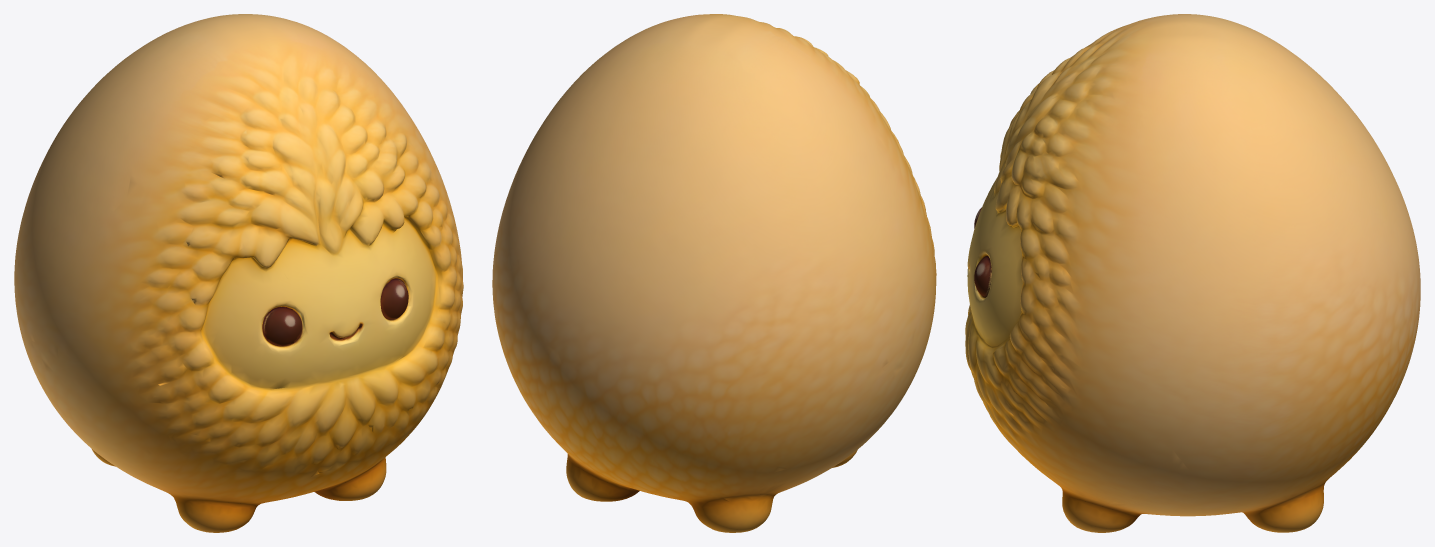
File: tuantuan_egg.glb
3 views of the same model, side by side, from view 1: azimuth 30°, elevation 25°; view 2: azimuth 150°, elevation 25°; view 3: azimuth 270°, elevation 25° (orthographic). The views are drawn at different scales.
Visible parts, largest first — view 1: node_0; view 2: node_0; view 3: node_0.
Boxes of the visible parts, bbox=[...] form: node_0: bbox=[14, 14, 463, 532]; node_0: bbox=[492, 14, 936, 532]; node_0: bbox=[965, 14, 1420, 532].
Size of the model in its own units: 0.9411 by 1.05 by 0.9382.
Materials: 1 (1 with a texture image).
